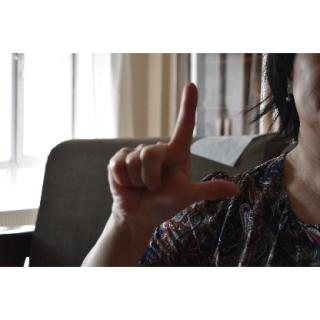LAAM: (104, 78, 242, 226)
